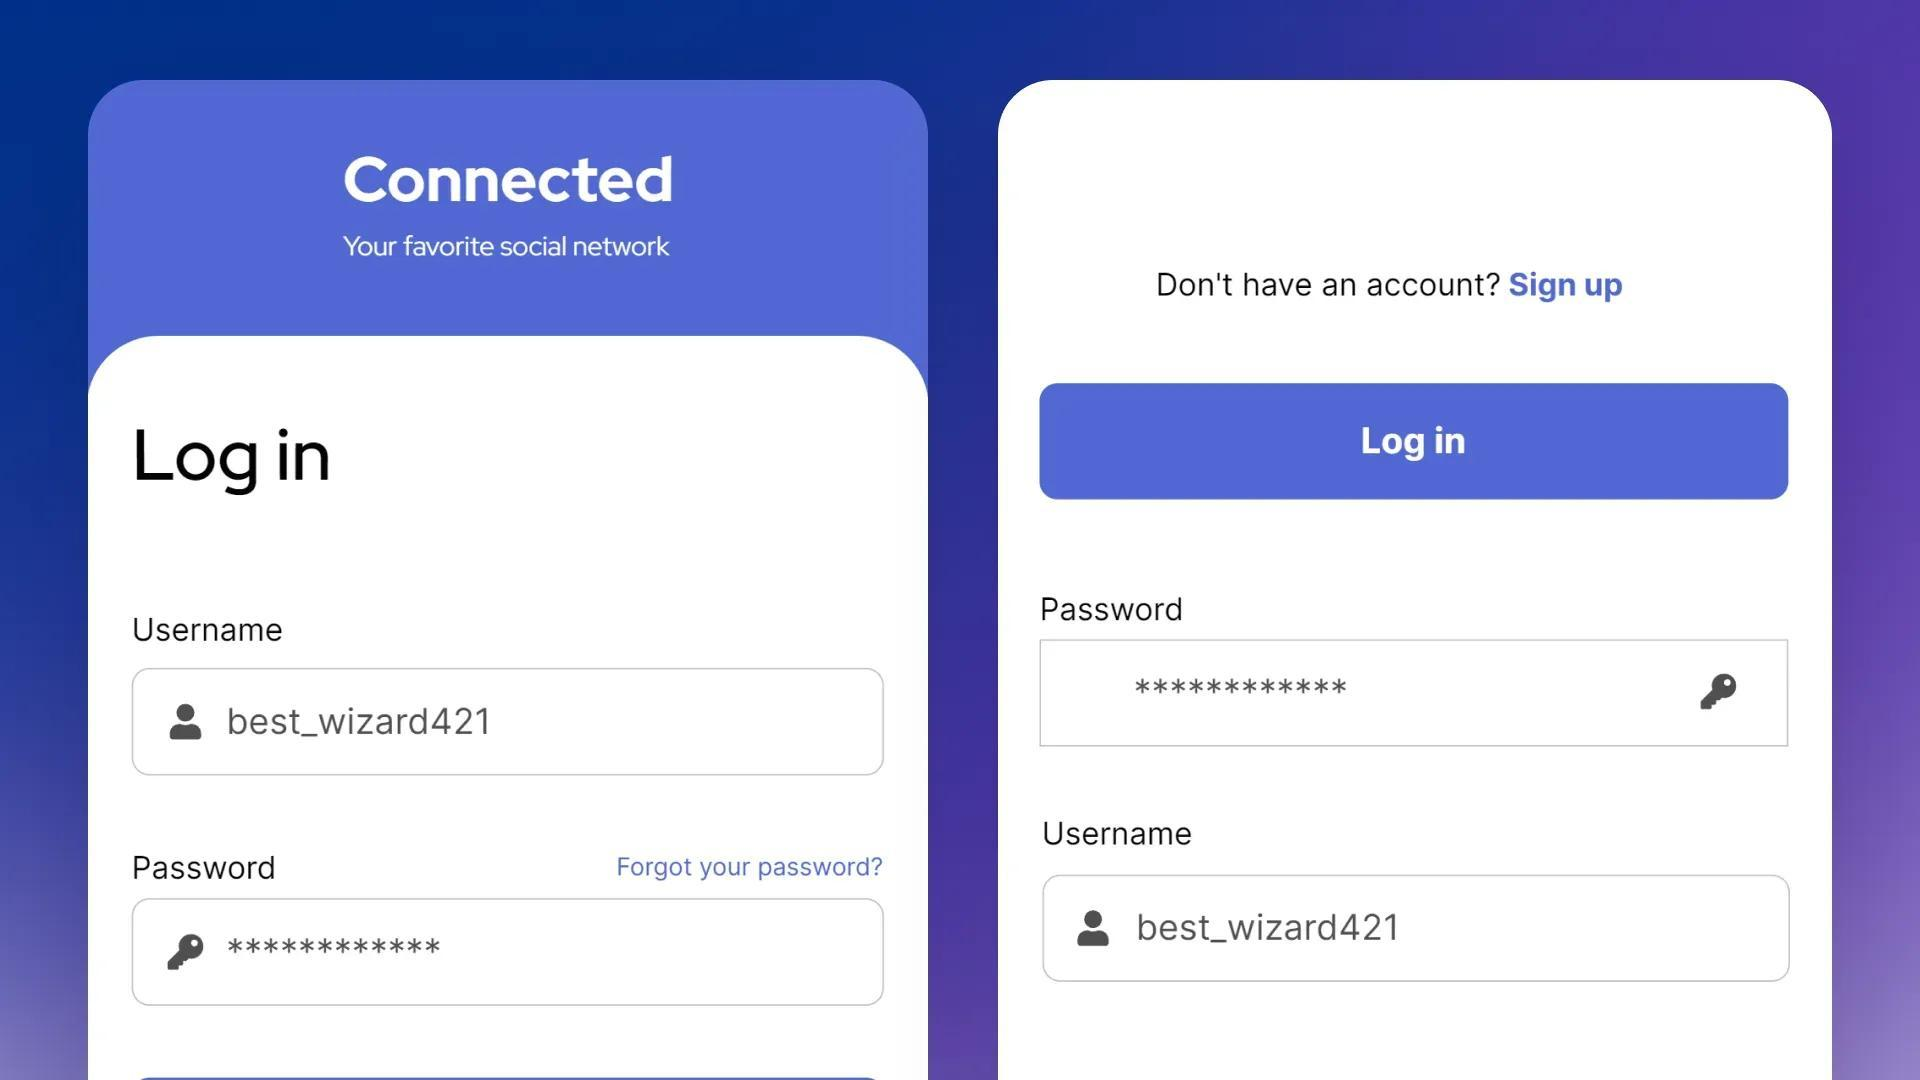button: (1042, 386, 1789, 498)
icon: (1688, 662, 1743, 717), (162, 922, 214, 976), (164, 695, 210, 750), (1077, 902, 1113, 953)
input: (138, 670, 882, 782), (1043, 877, 1793, 985), (132, 899, 887, 1004), (1040, 644, 1792, 748)
label: (345, 148, 682, 214), (132, 419, 342, 492), (1043, 812, 1201, 858), (135, 847, 287, 890), (129, 615, 298, 649), (1036, 593, 1192, 630)
